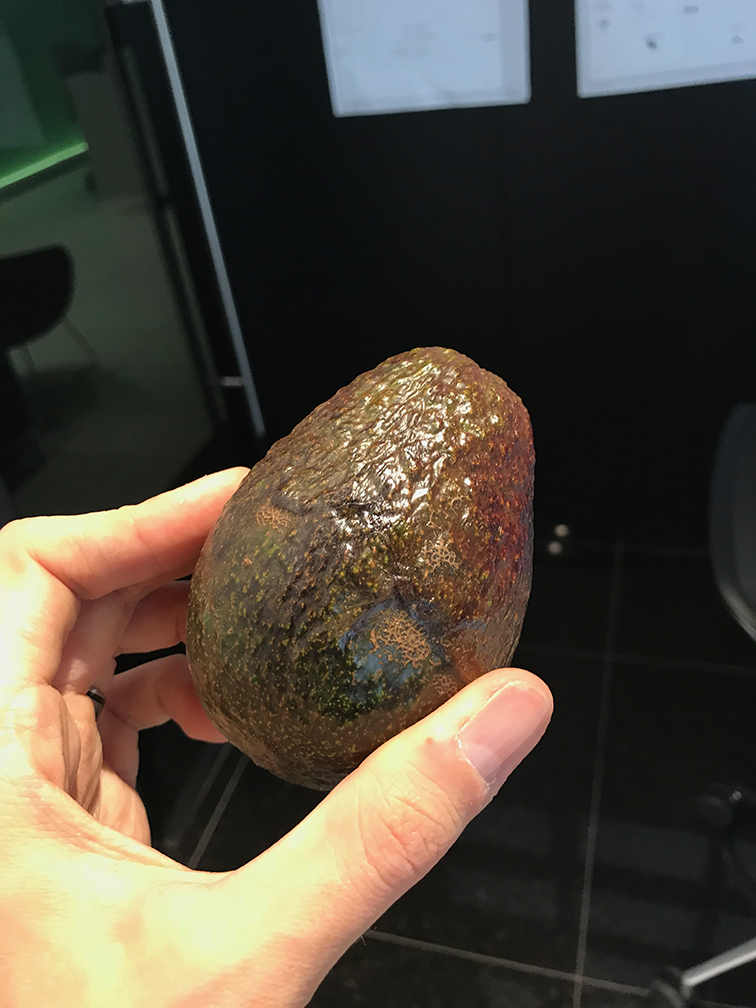avocado: (188, 326, 548, 799)
